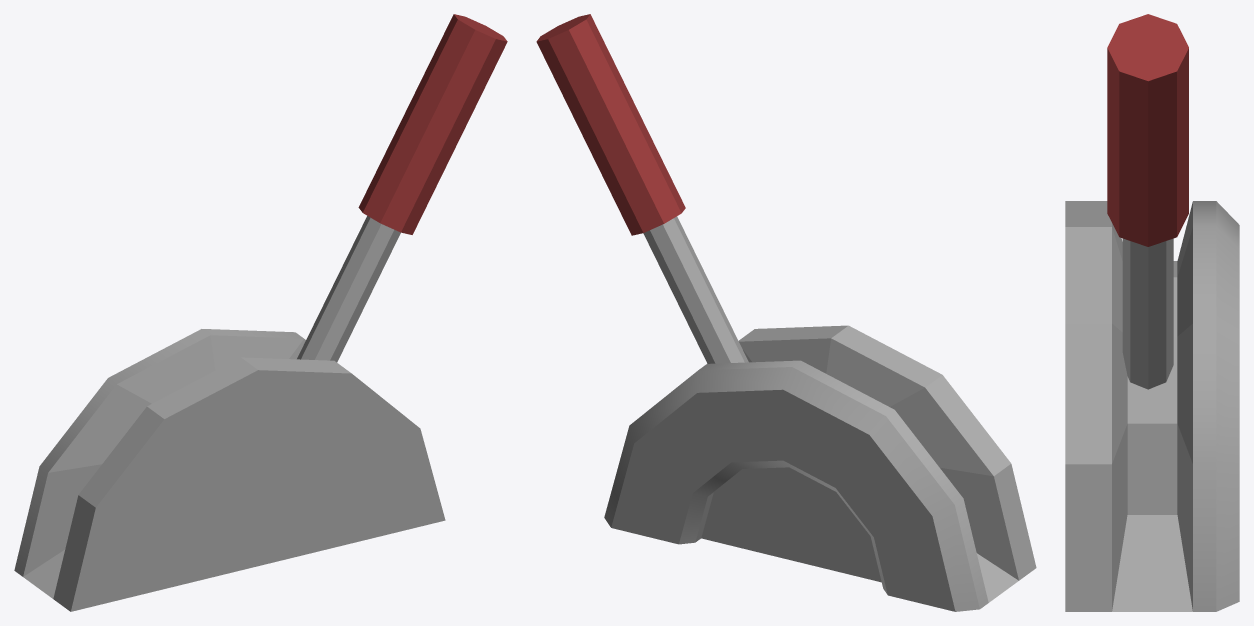
File: AlavancaFBX.fbx
3 views of the same model, side by side, from view 1: azimuth 30°, elevation 25°; view 2: azimuth 150°, elevation 25°; view 3: azimuth 270°, elevation 25° (orthographic). The views are drawn at different scales.
Parts seen in each view (by area): view 1: pCylinder1, pCylinder4; view 2: pCylinder1, pCylinder4; view 3: pCylinder1, pCylinder4.
Boxes of the visible parts, x1,y1,x2,y2 form: pCylinder1: (14, 329, 445, 611); pCylinder4: (297, 14, 507, 362); pCylinder1: (604, 325, 1036, 611); pCylinder4: (536, 14, 748, 363); pCylinder1: (1065, 201, 1239, 611); pCylinder4: (1107, 14, 1188, 389).
Size of the model in its own units: 2.47 by 2.39 by 0.6022.
